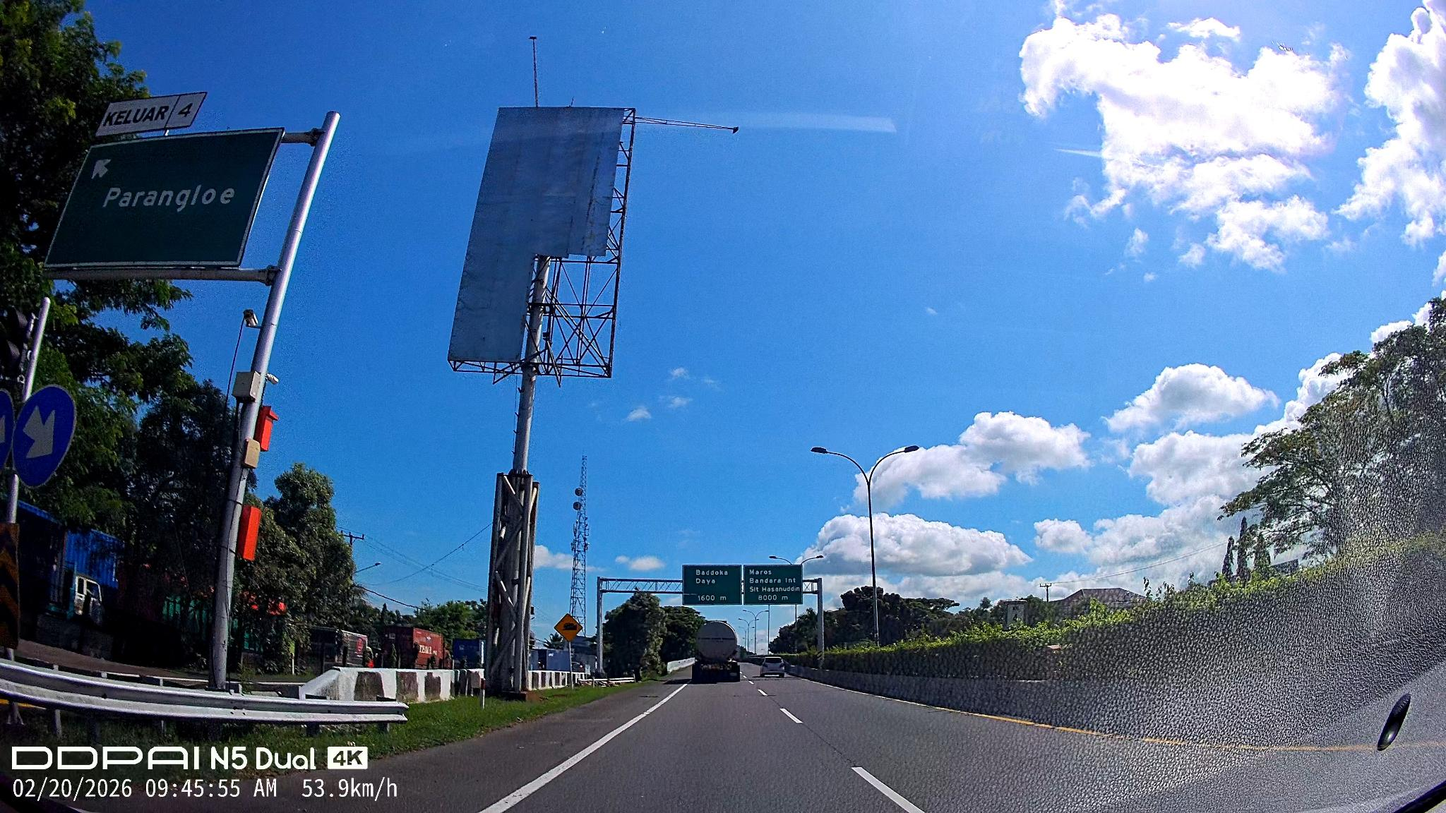rambu_teks: (682, 564, 742, 606), (743, 564, 803, 605)
